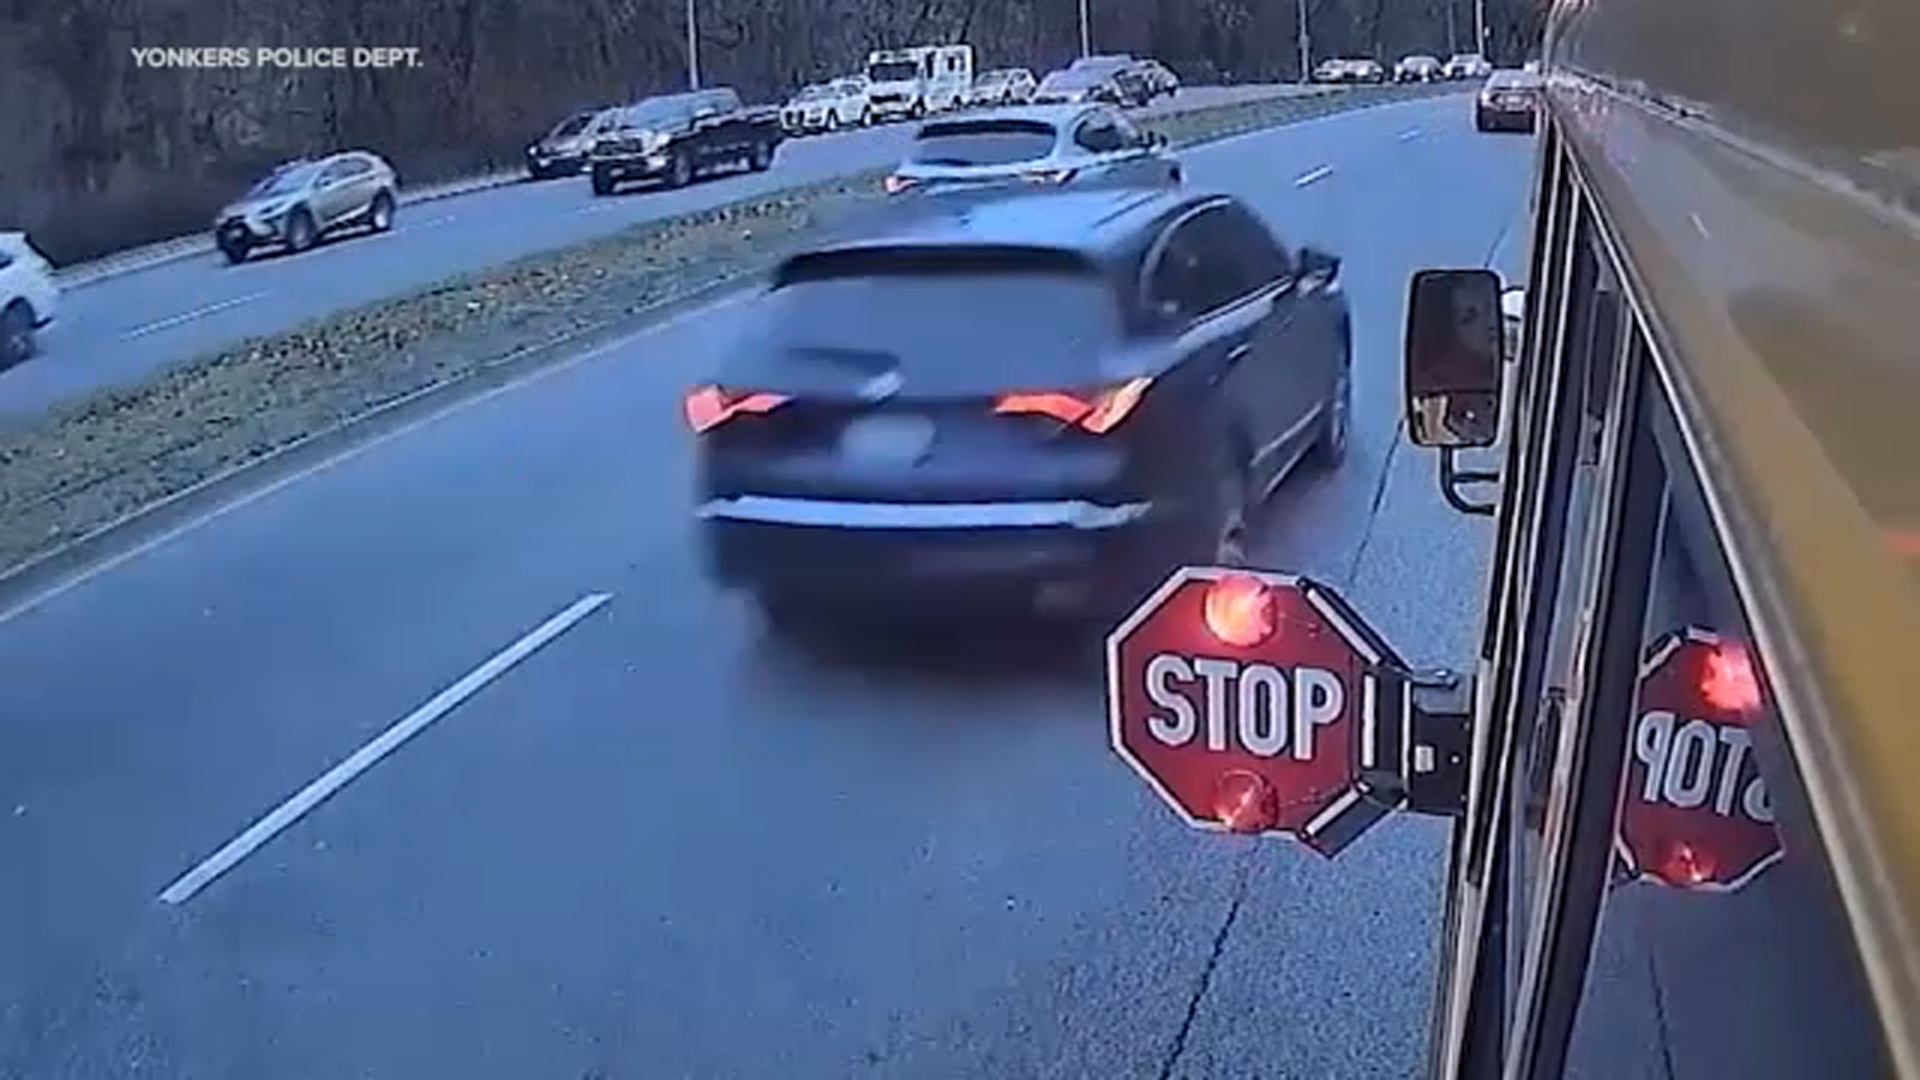StopSign: (1101, 564, 1374, 841)
